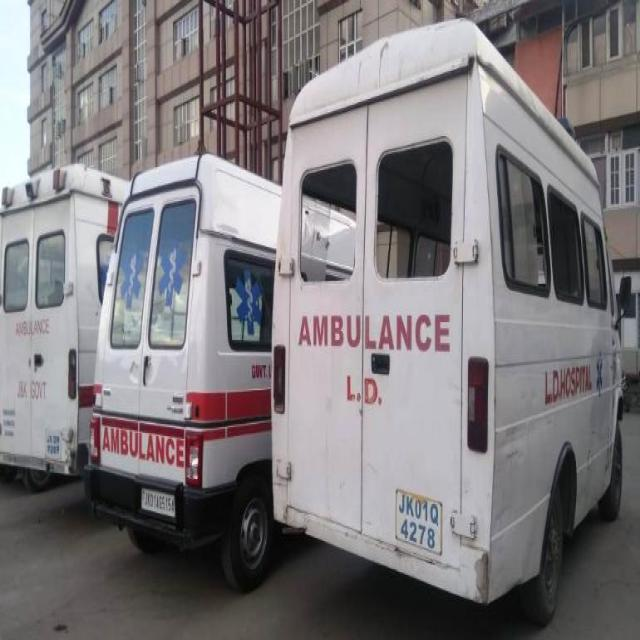emergency: (272, 20, 630, 621), (85, 153, 281, 591), (0, 164, 130, 483)
